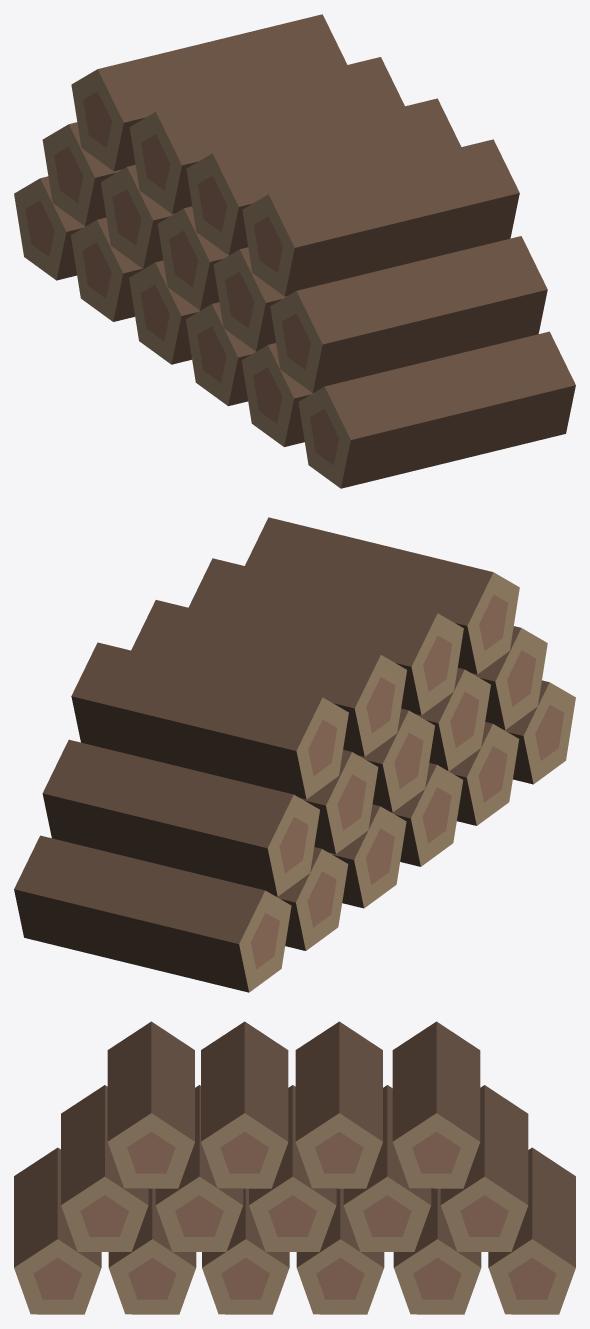
File: TB_Prop_LumberPile_Big_A.FBX
3 renders of one model, top to bottom at view 1: azimuth 30°, elevation 25°; view 2: azimuth 150°, elevation 25°; view 3: azimuth 270°, elevation 25°, orthographic. The views are drawn at different scales.
Parts seen in each view (by area): view 1: TB_Prop_LumberPile_Big_A; view 2: TB_Prop_LumberPile_Big_A; view 3: TB_Prop_LumberPile_Big_A.
Part boxes in pixels (x1,y1,x2,y2): TB_Prop_LumberPile_Big_A: [14, 14, 575, 488]; TB_Prop_LumberPile_Big_A: [14, 517, 575, 992]; TB_Prop_LumberPile_Big_A: [14, 1021, 575, 1314].
Bounding box in the file's own units: 1.65 × 1.7 × 4.29.
